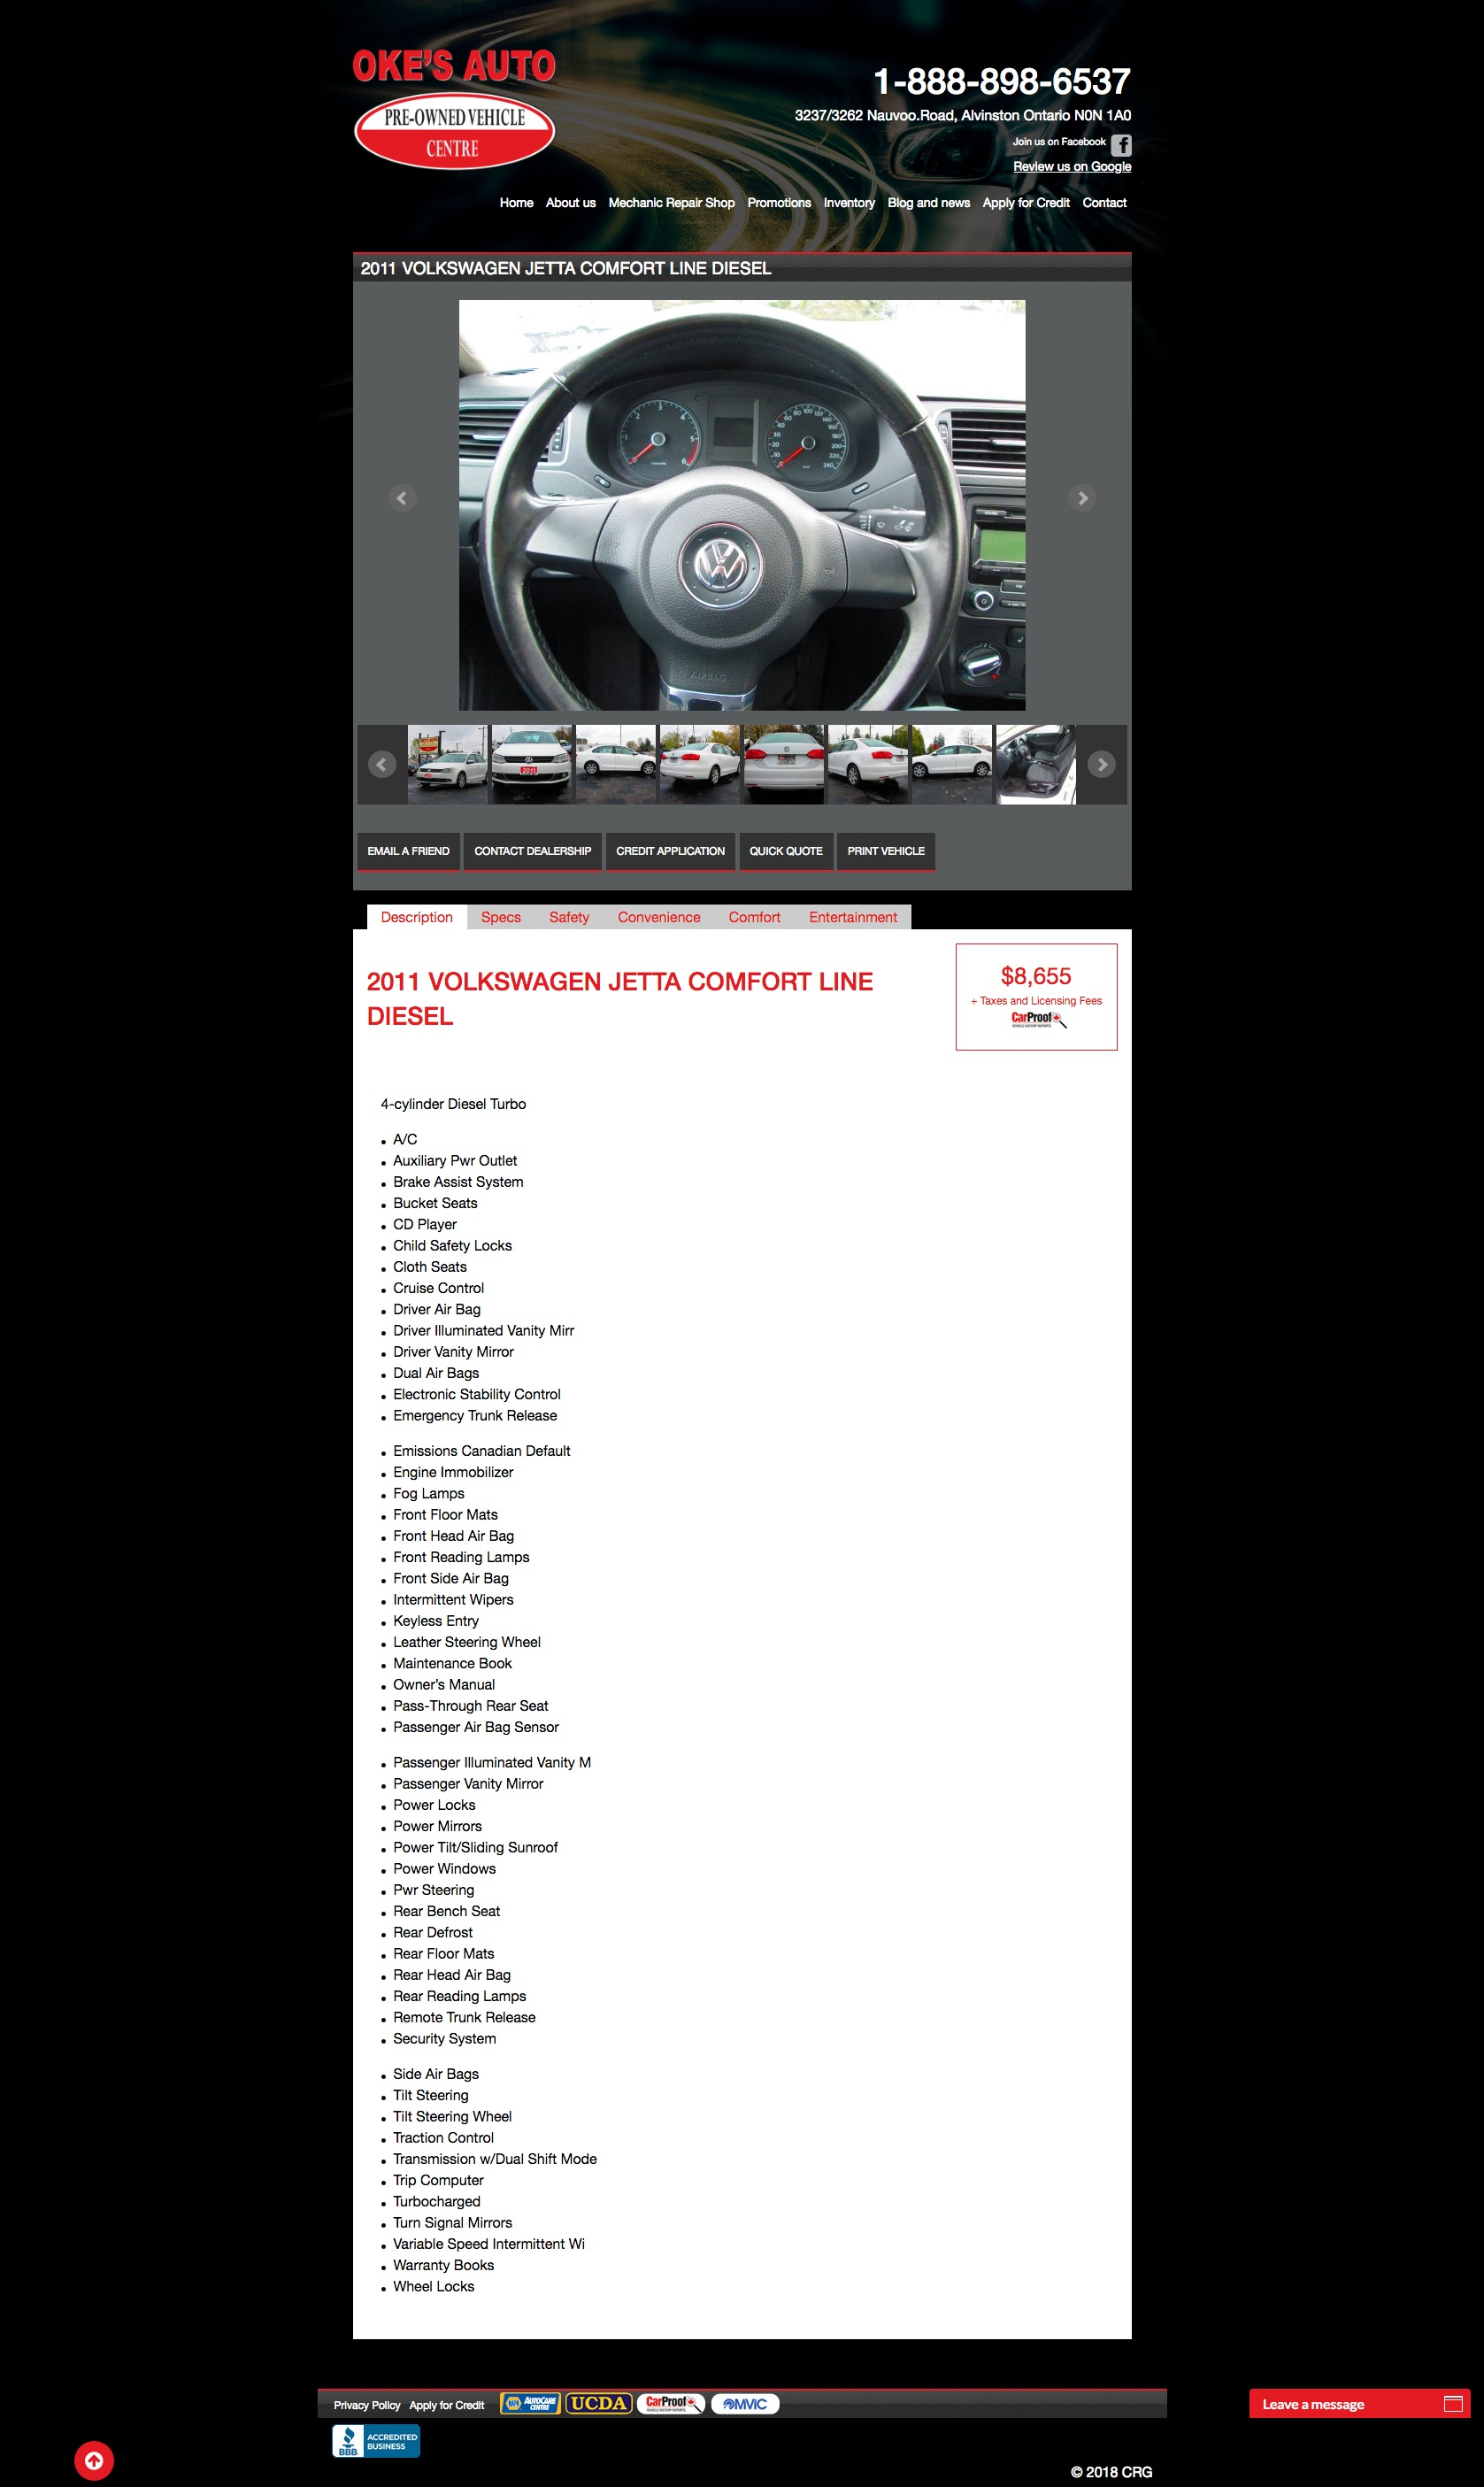car: (1086, 751, 1117, 779)
